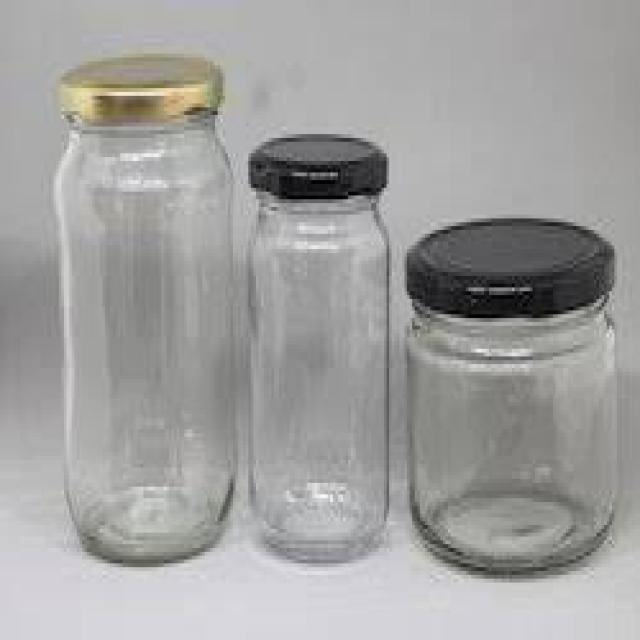Glass: (48, 51, 242, 570), (404, 216, 622, 585), (242, 130, 394, 565)
